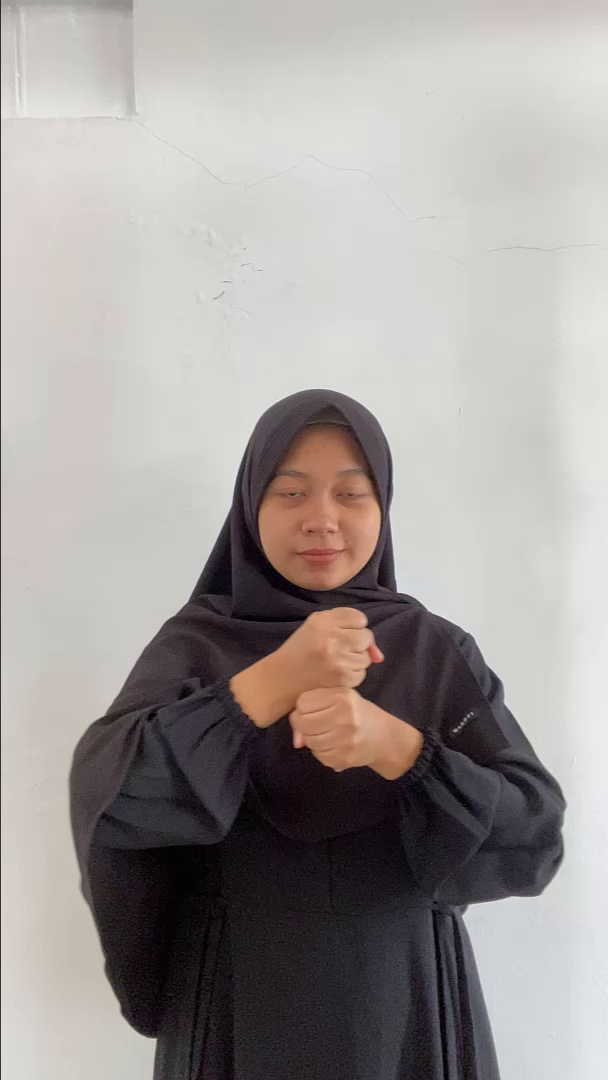MINGGU: (225, 597, 417, 785)
